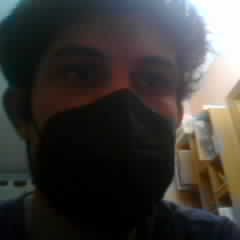with_mask: (30, 15, 180, 223)
